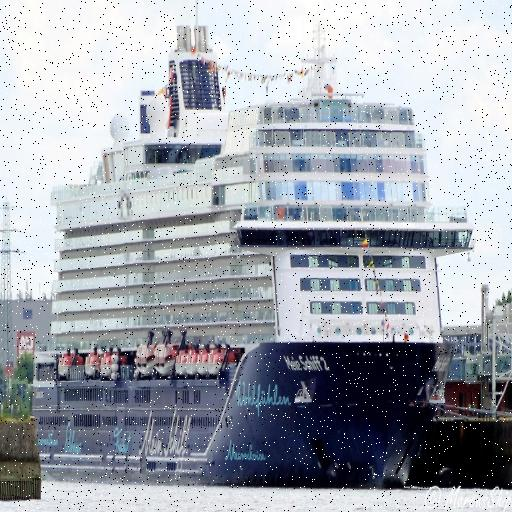cruises: (29, 17, 478, 495)
